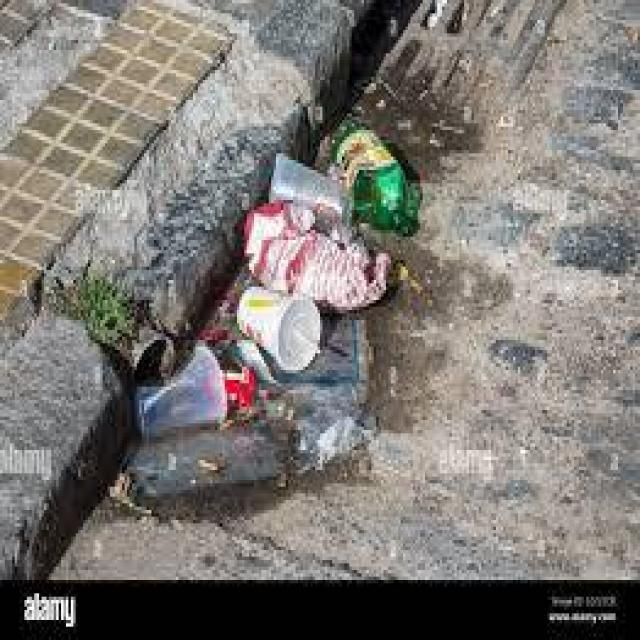curb: (1, 1, 426, 586)
